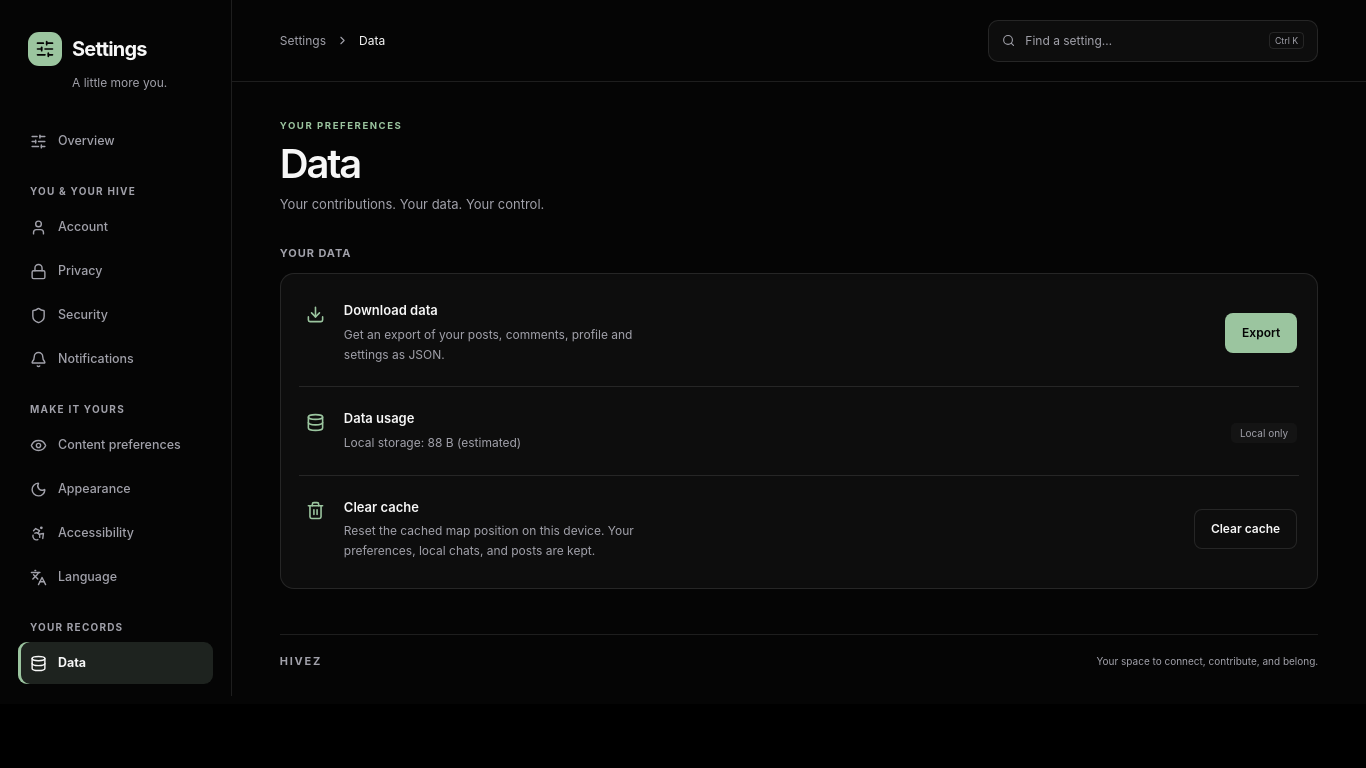
it: Isolated persistence and recovery › requires cache confirmation and preserves user data
Click the button "Clear cache": point(1246, 529) [1194,509,1297,549]
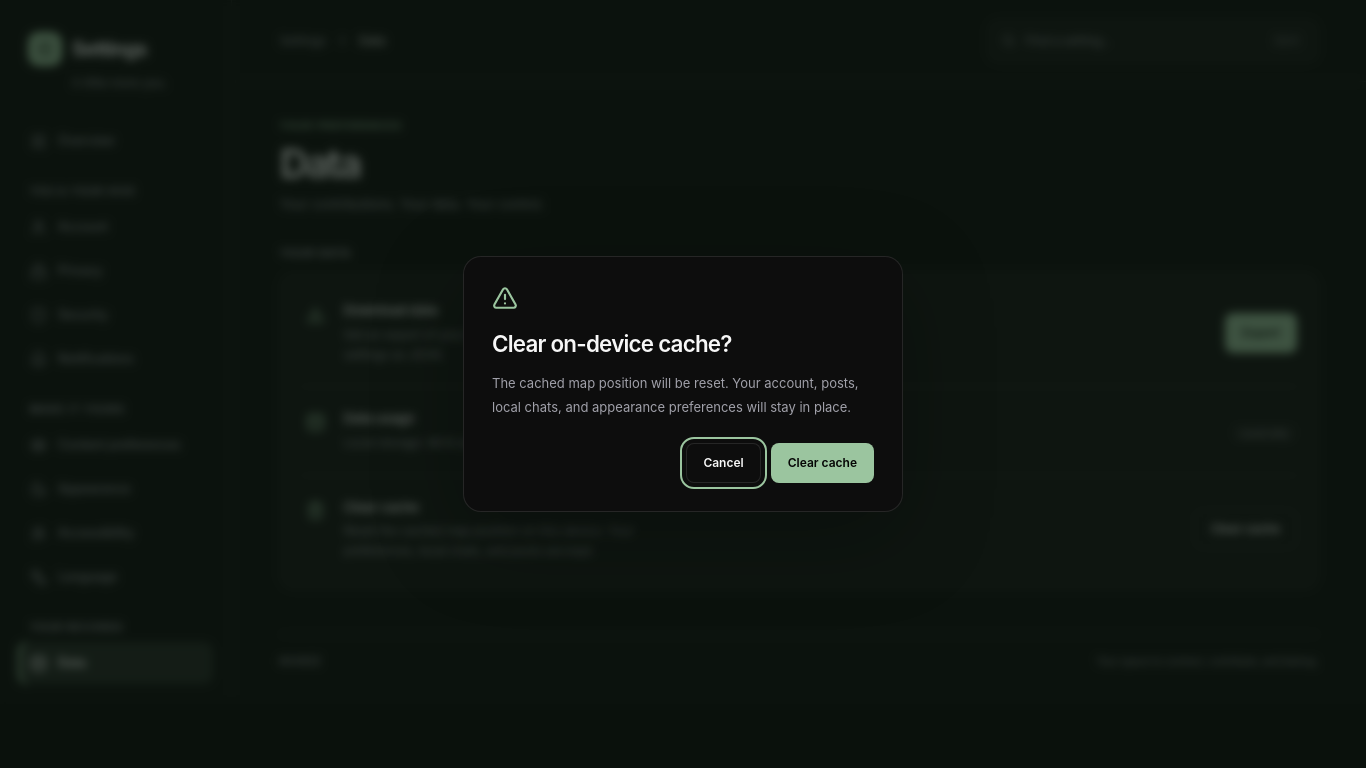
Click the button "Cancel": point(724, 463) [686,443,761,483]
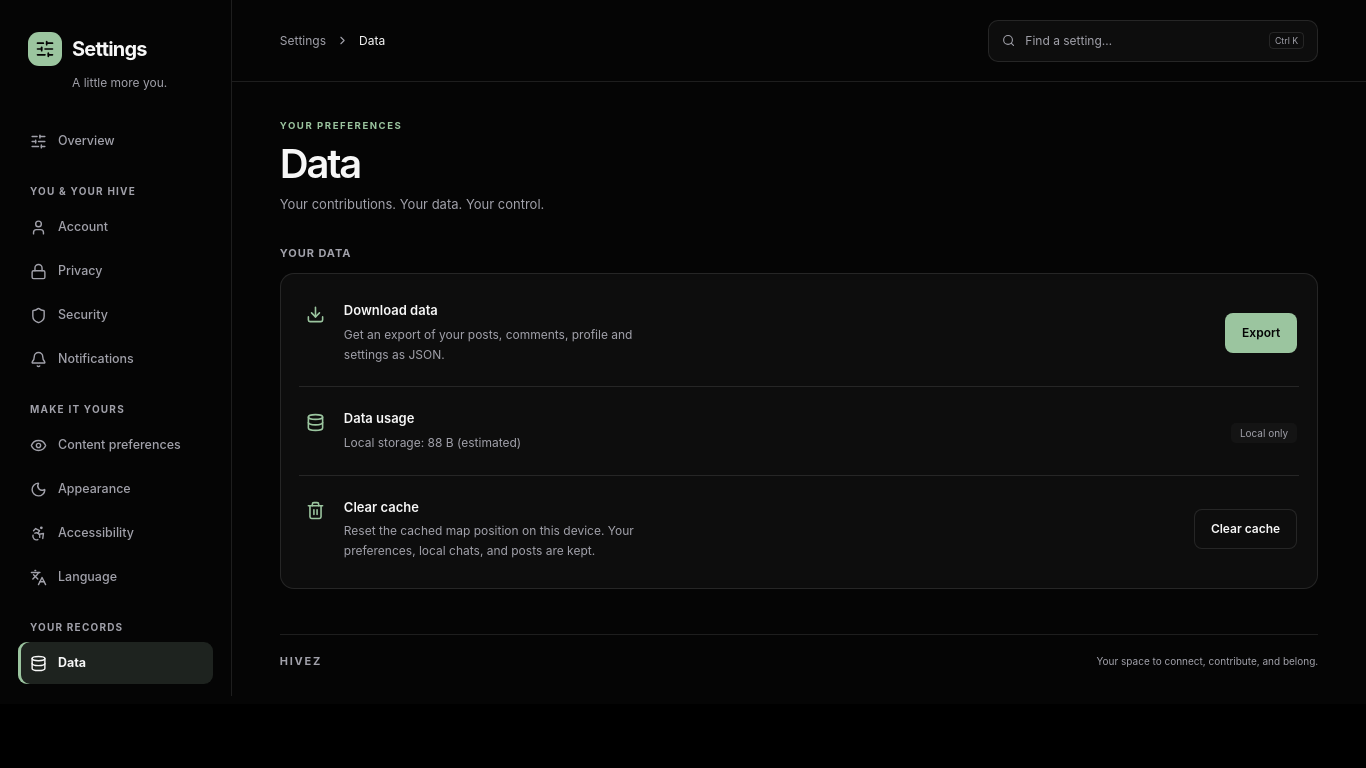
Click the button "Clear cache": point(1246, 529) [1194,509,1297,549]
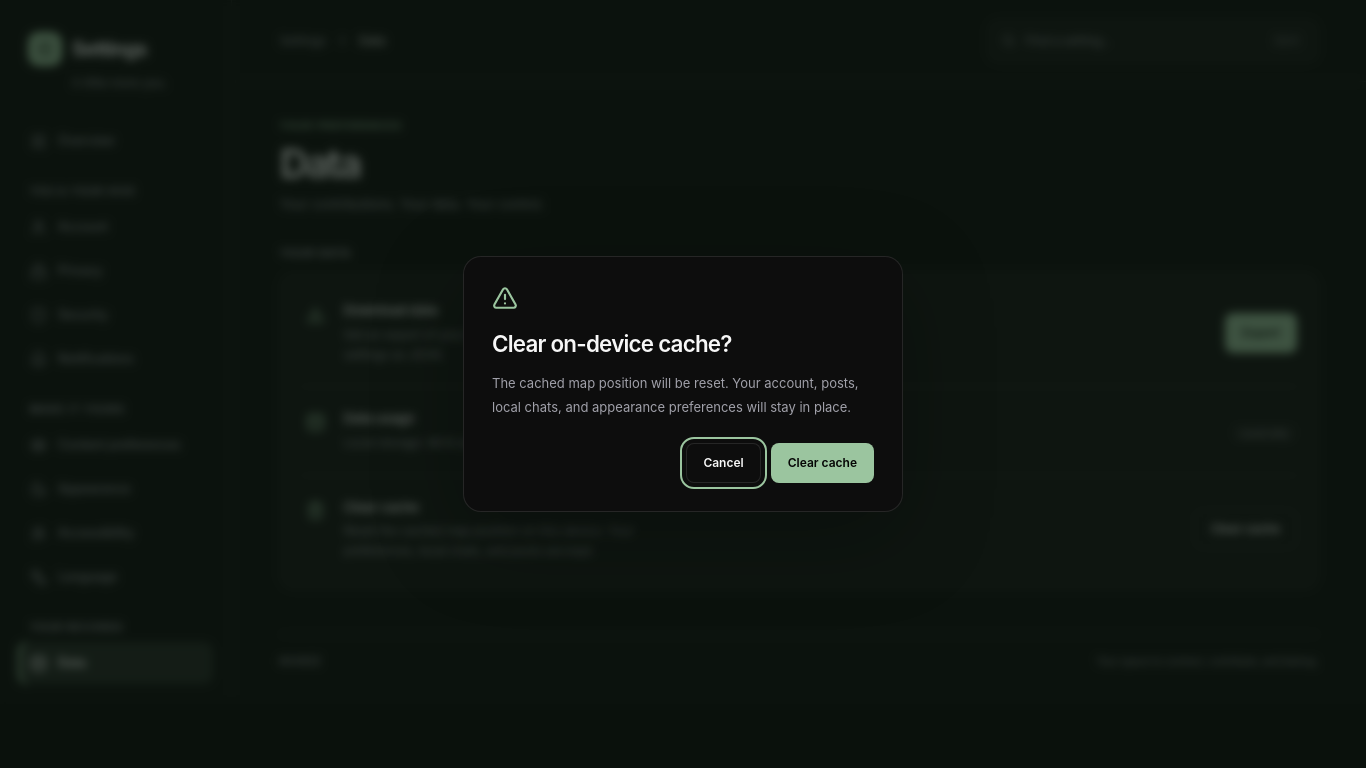
Click the button "Clear cache": point(822, 463) [771,443,874,483]
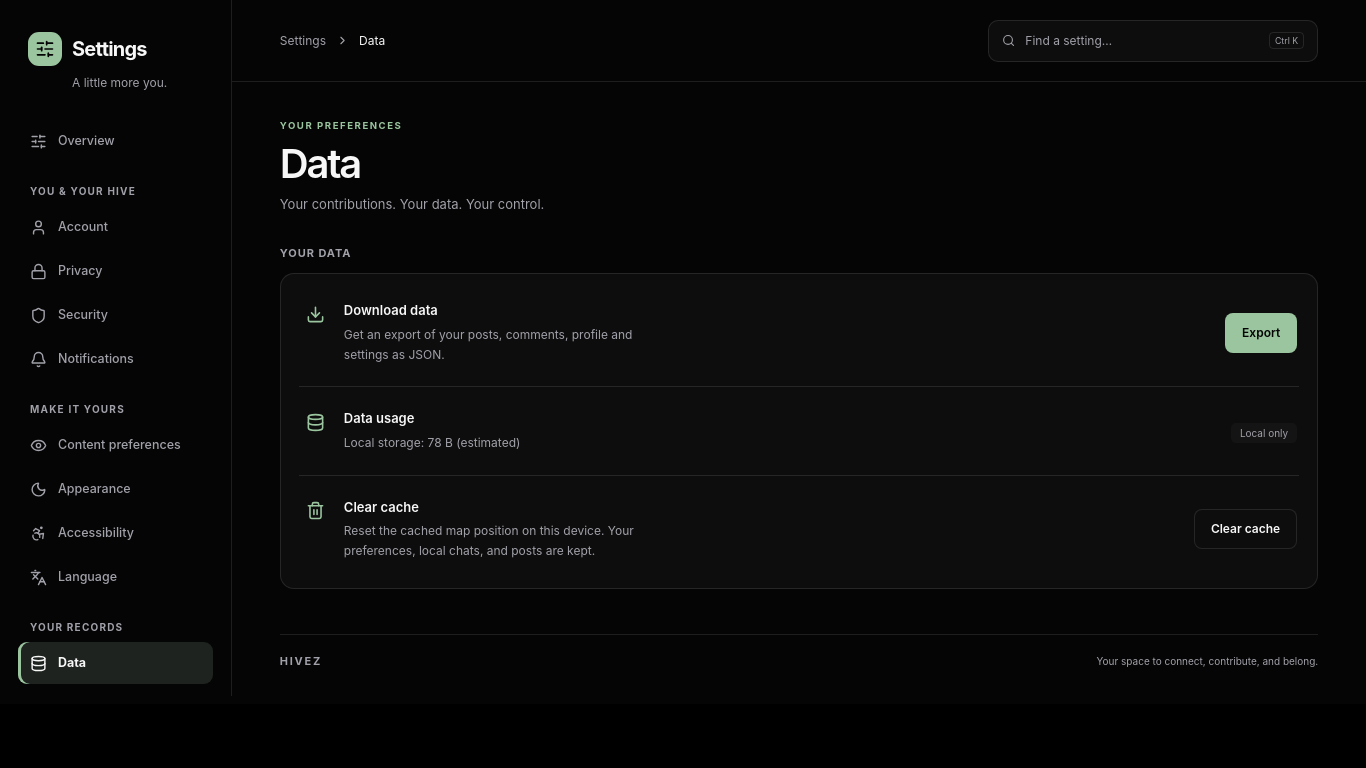
Now the dialog is gone
